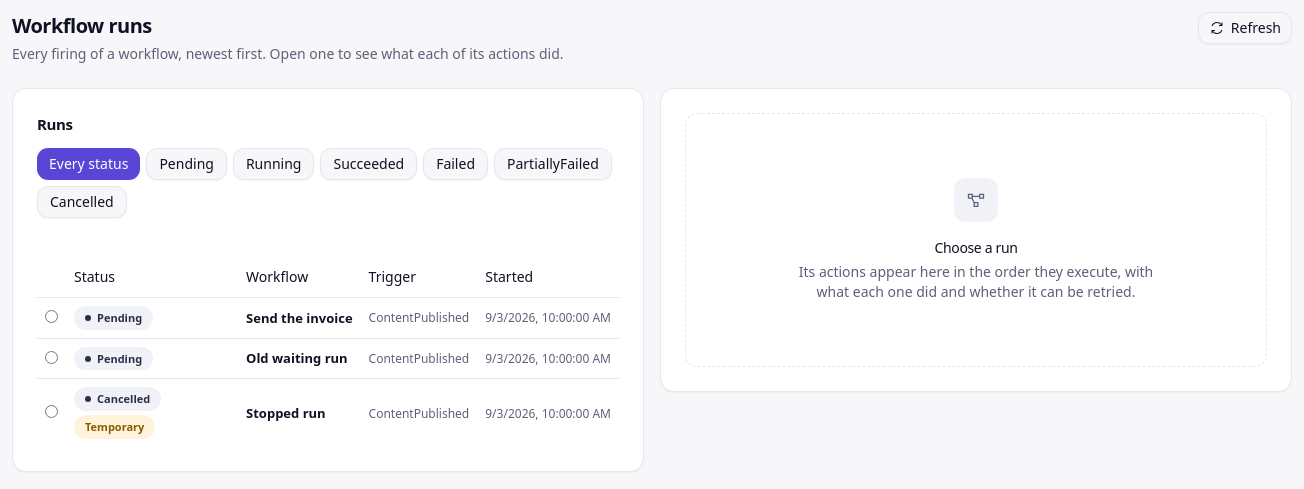
Scenario: cancelling a run › offers no cancel on an API that sends no cancelledAt
Click the radio button named "Old waiting run" at coordinates (52, 357), box 45,350 -> 58,364
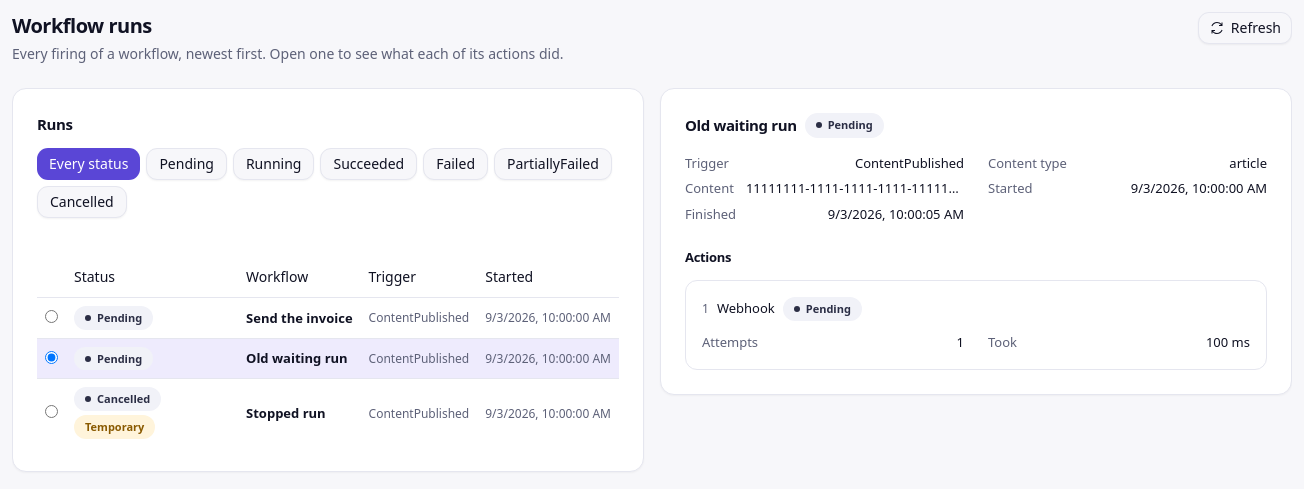
Check: the list named "Actions" is shown, box 685,280 -> 1267,370
